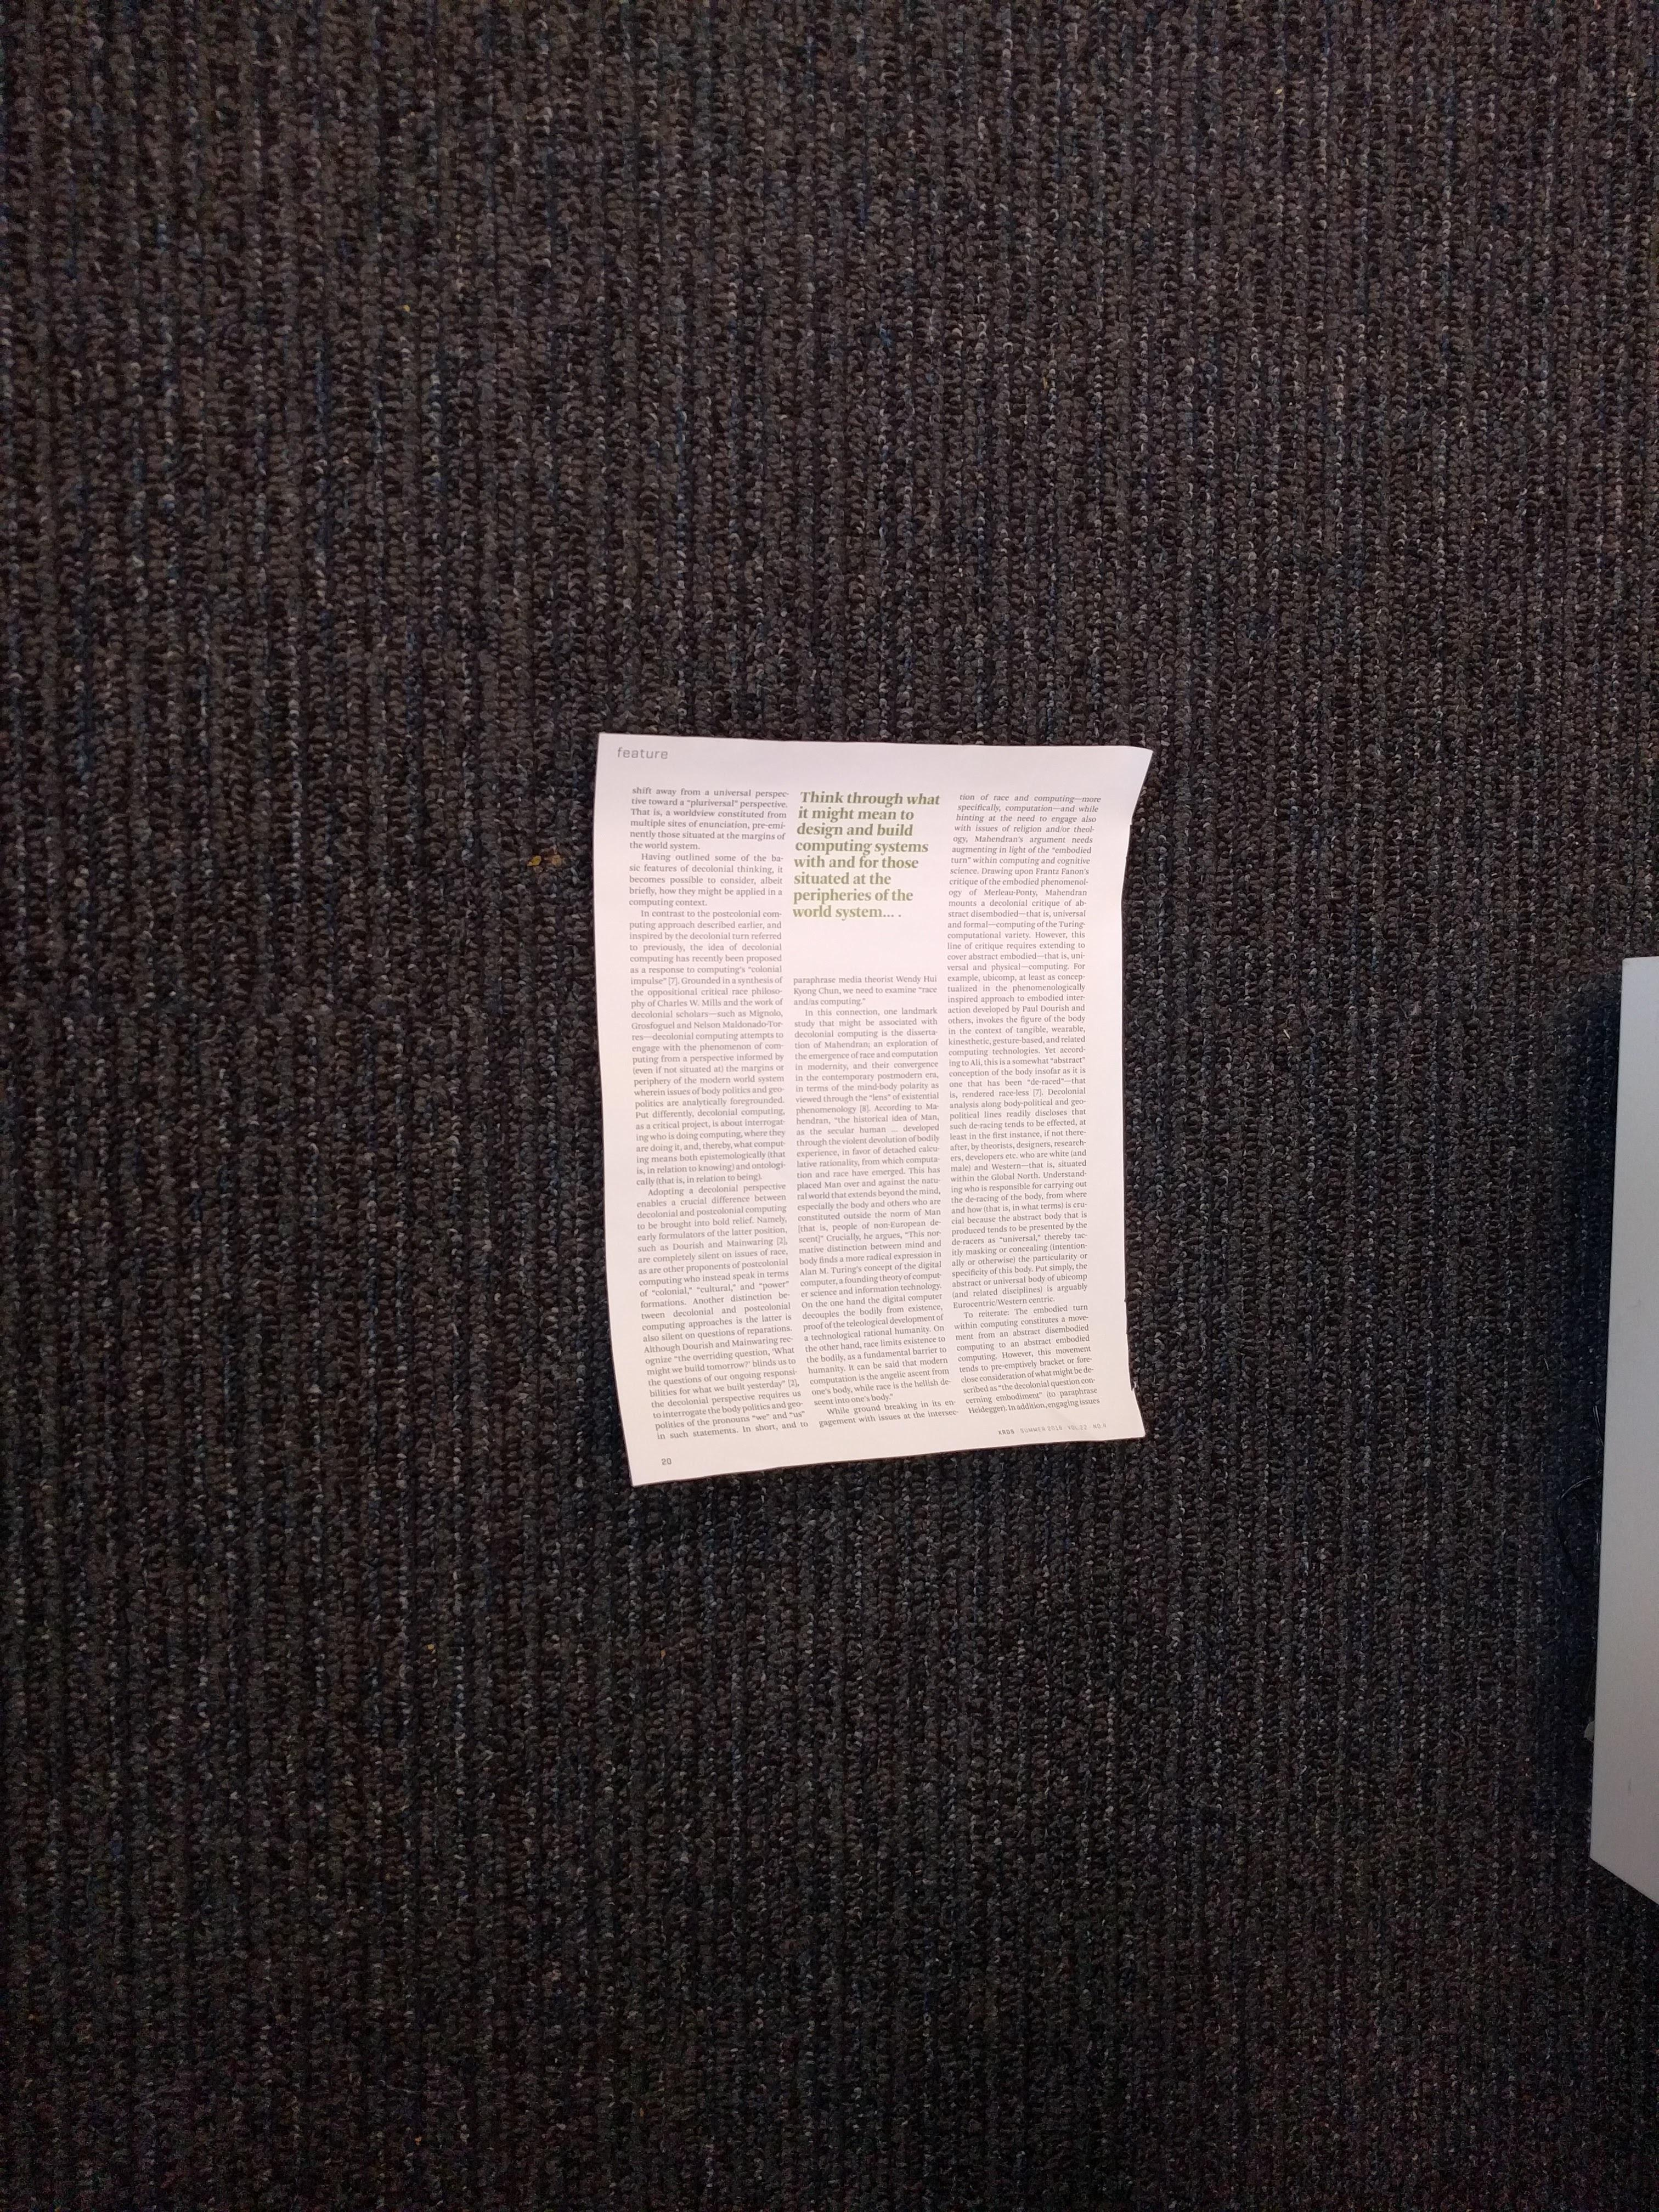paper: (300, 587, 1391, 1808)
